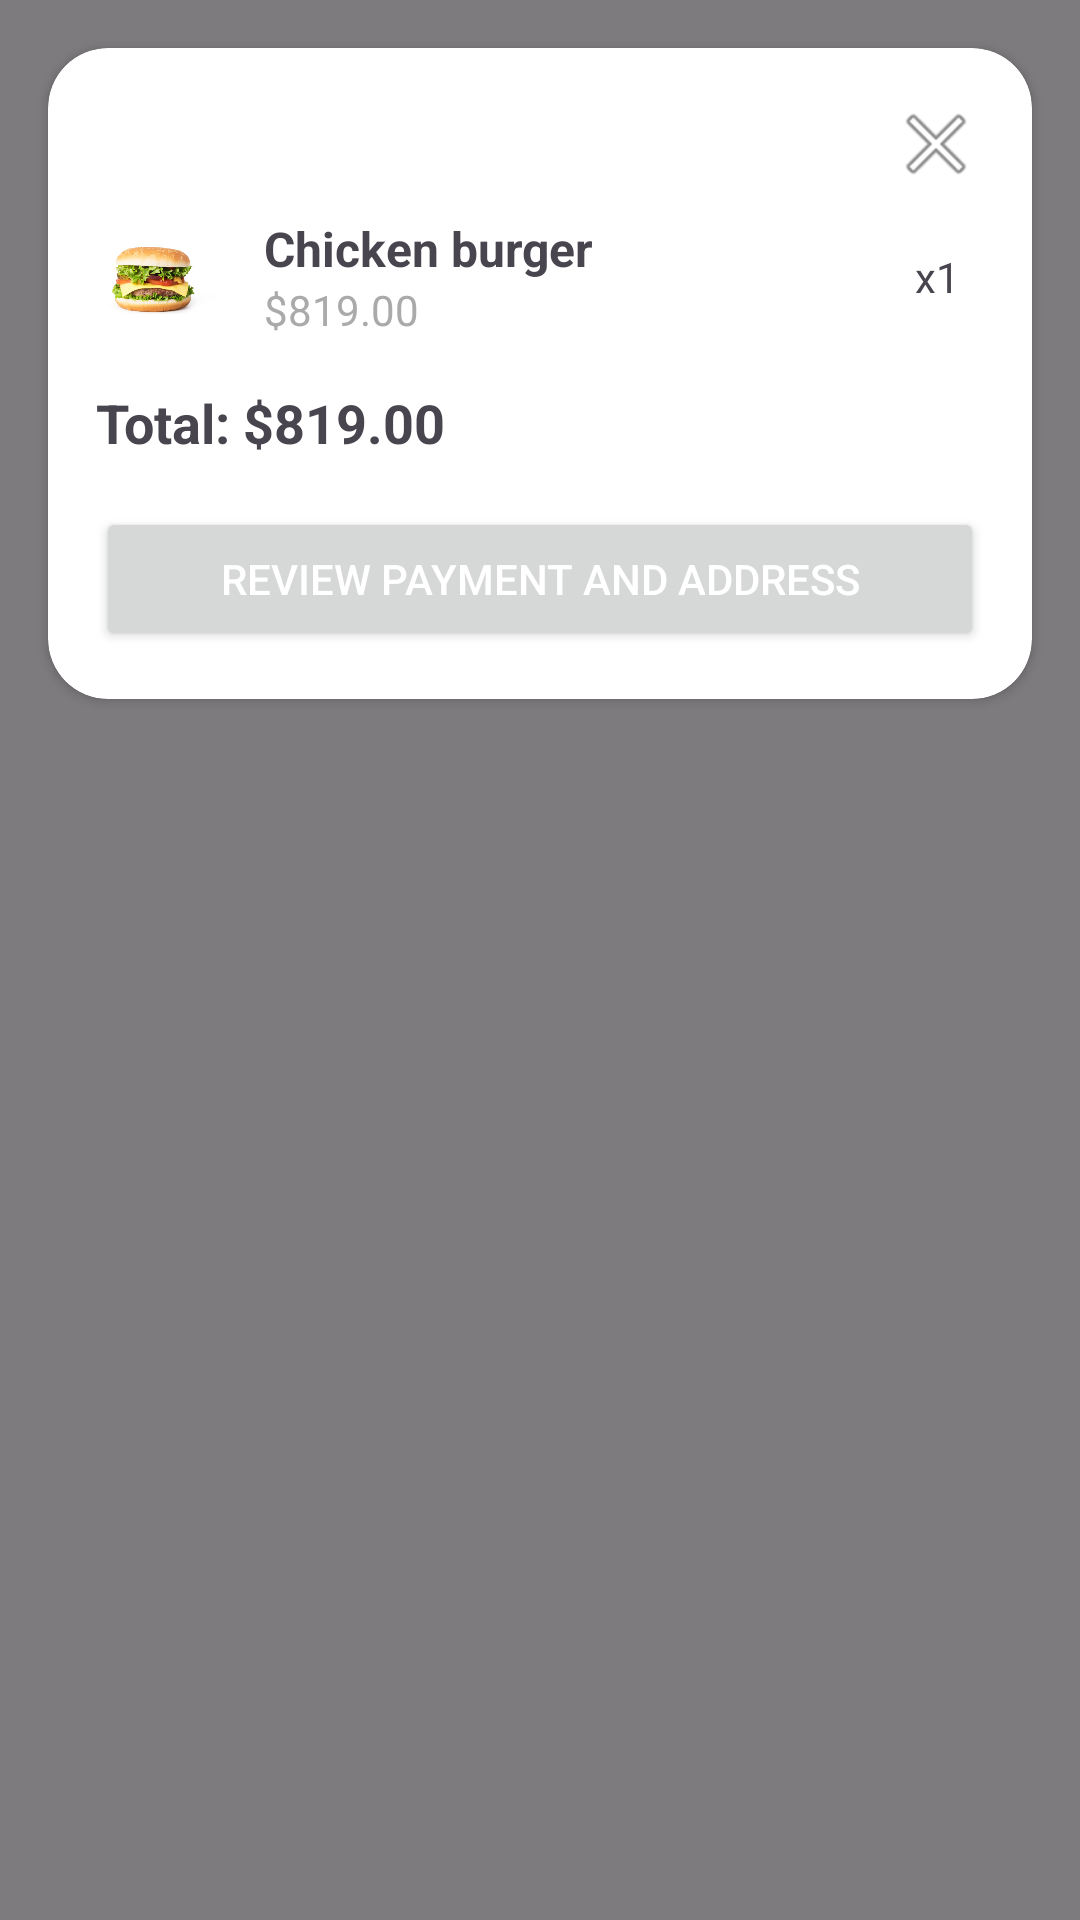

Where to tap for icons on this 1080w x 1920h app screen, as point (x, y):
Close cart: point (936, 144)
